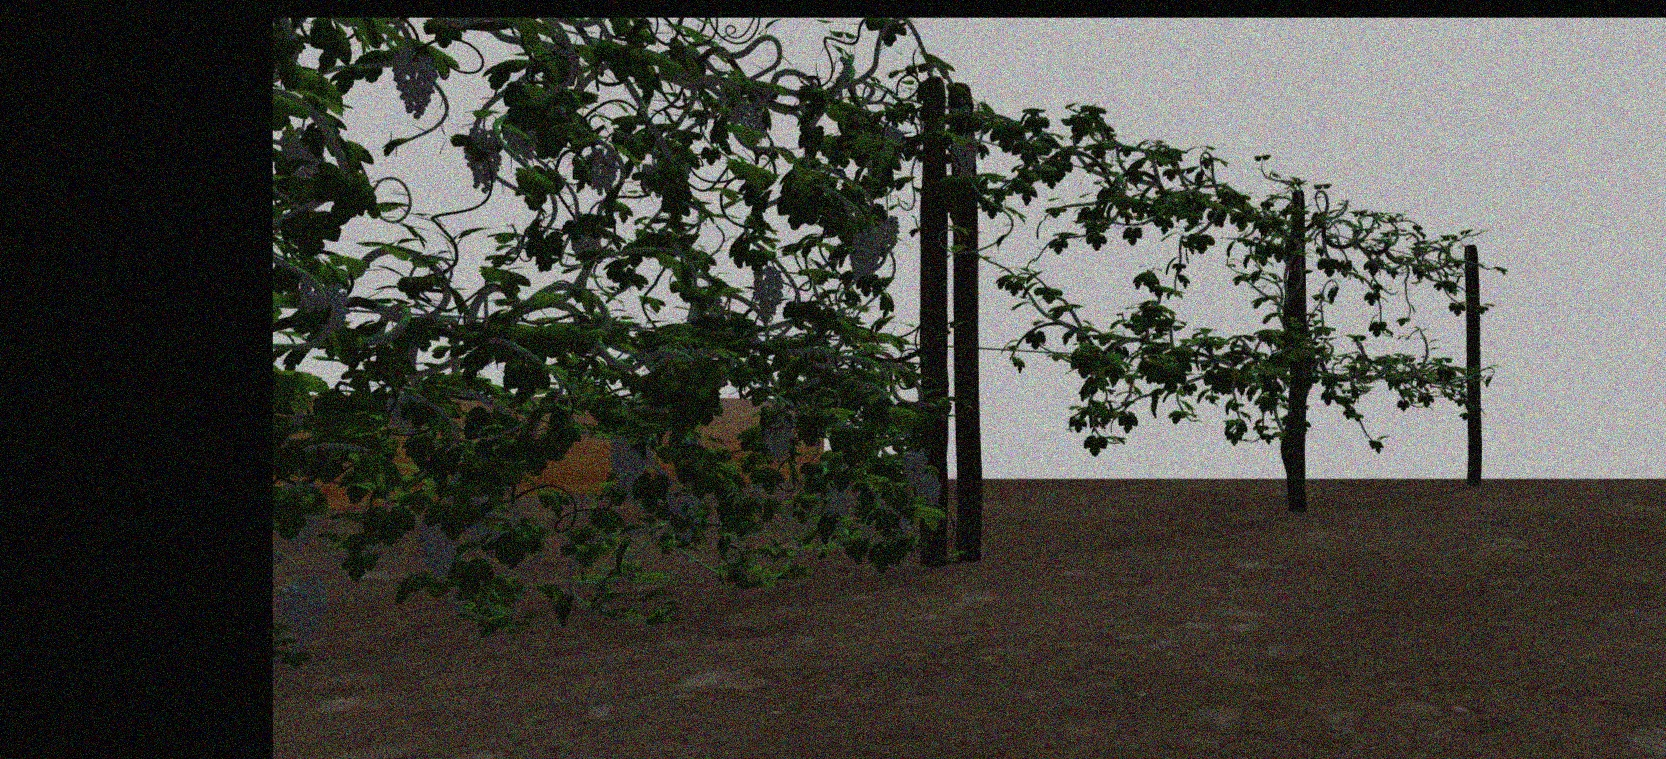grape: (274, 575, 326, 641), (389, 46, 436, 117), (413, 515, 458, 585), (297, 281, 350, 338), (463, 126, 500, 190), (608, 435, 646, 494), (666, 480, 697, 543), (752, 262, 785, 317), (583, 147, 620, 193), (848, 227, 880, 281), (948, 136, 981, 179), (871, 214, 898, 255), (764, 417, 789, 458), (899, 450, 926, 480), (915, 475, 941, 506), (824, 483, 849, 516)
